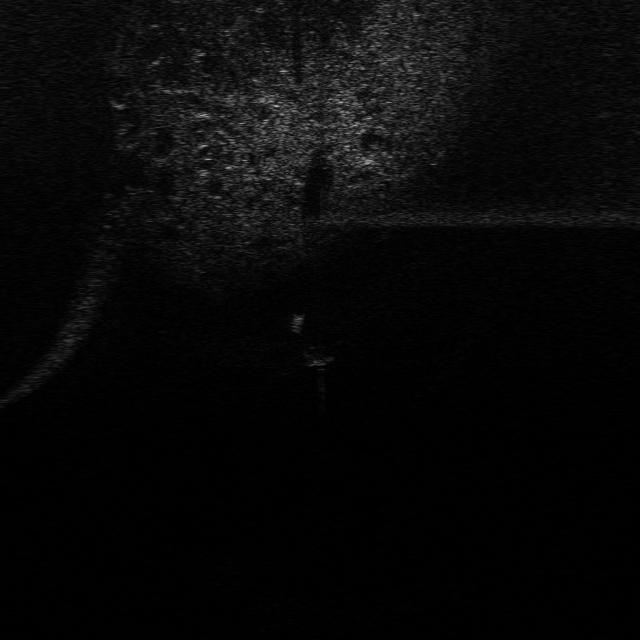cube: (299, 344, 337, 368)
cylinder: (286, 310, 308, 336)
